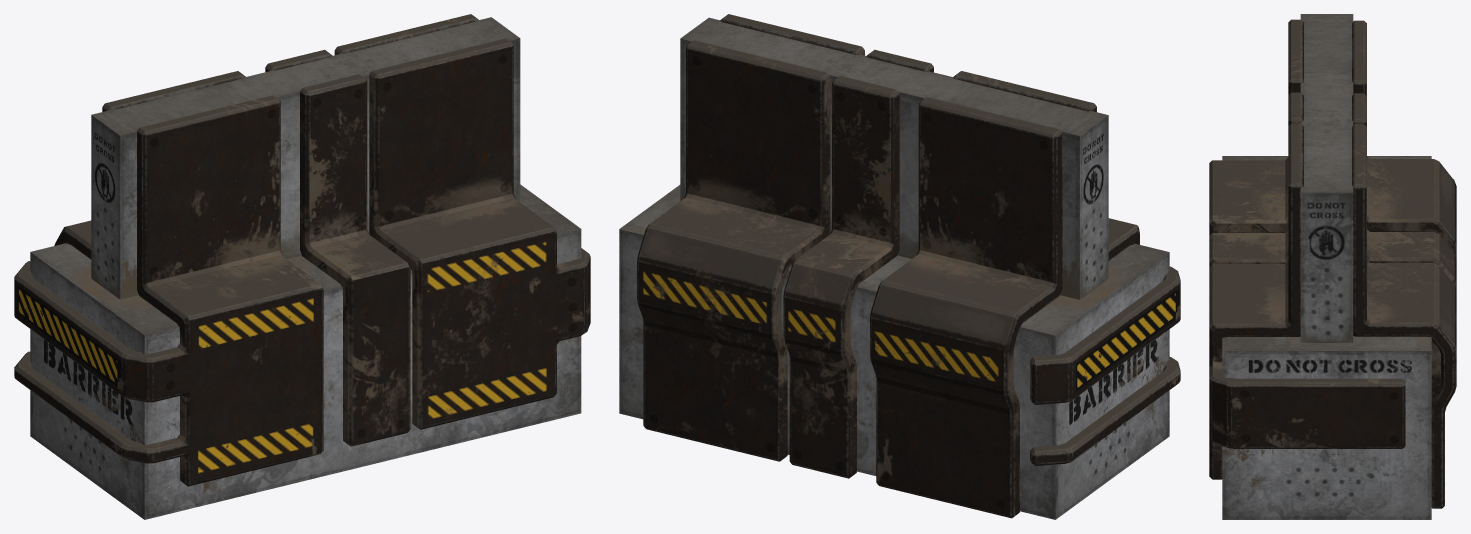
The model's file is test_barrier.glb.
3 renders of one model, left to right at view 1: azimuth 30°, elevation 25°; view 2: azimuth 150°, elevation 25°; view 3: azimuth 270°, elevation 25°, orthographic. The views are drawn at different scales.
Parts seen in each view (by area): view 1: Plane.015_Plane.013; view 2: Plane.015_Plane.013; view 3: Plane.015_Plane.013.
Boxes of the visible parts, x1=… form: Plane.015_Plane.013: x1=14, y1=14, x2=590, y2=519; Plane.015_Plane.013: x1=619, y1=14, x2=1180, y2=519; Plane.015_Plane.013: x1=1209, y1=14, x2=1456, y2=519.
Size of the model in its own units: 0.8471 by 0.6161 by 0.4239.
1 material, 1 textured.
